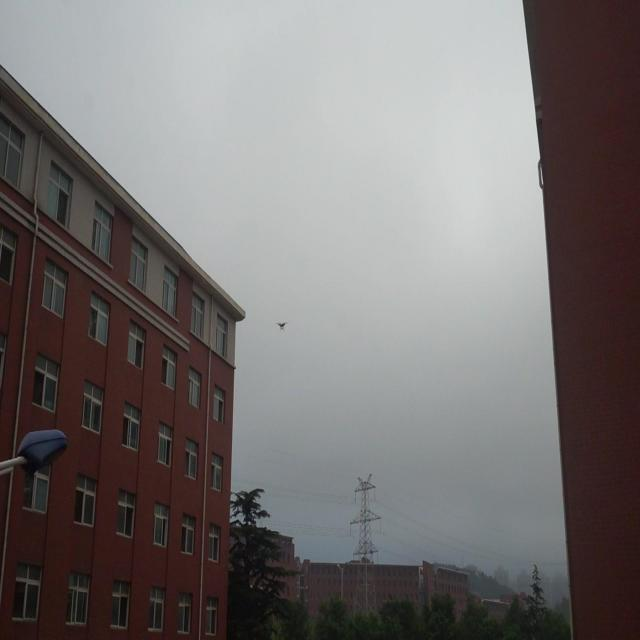UAV: (276, 322, 288, 331)
